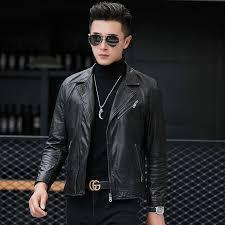jacket: (34, 59, 168, 204)
